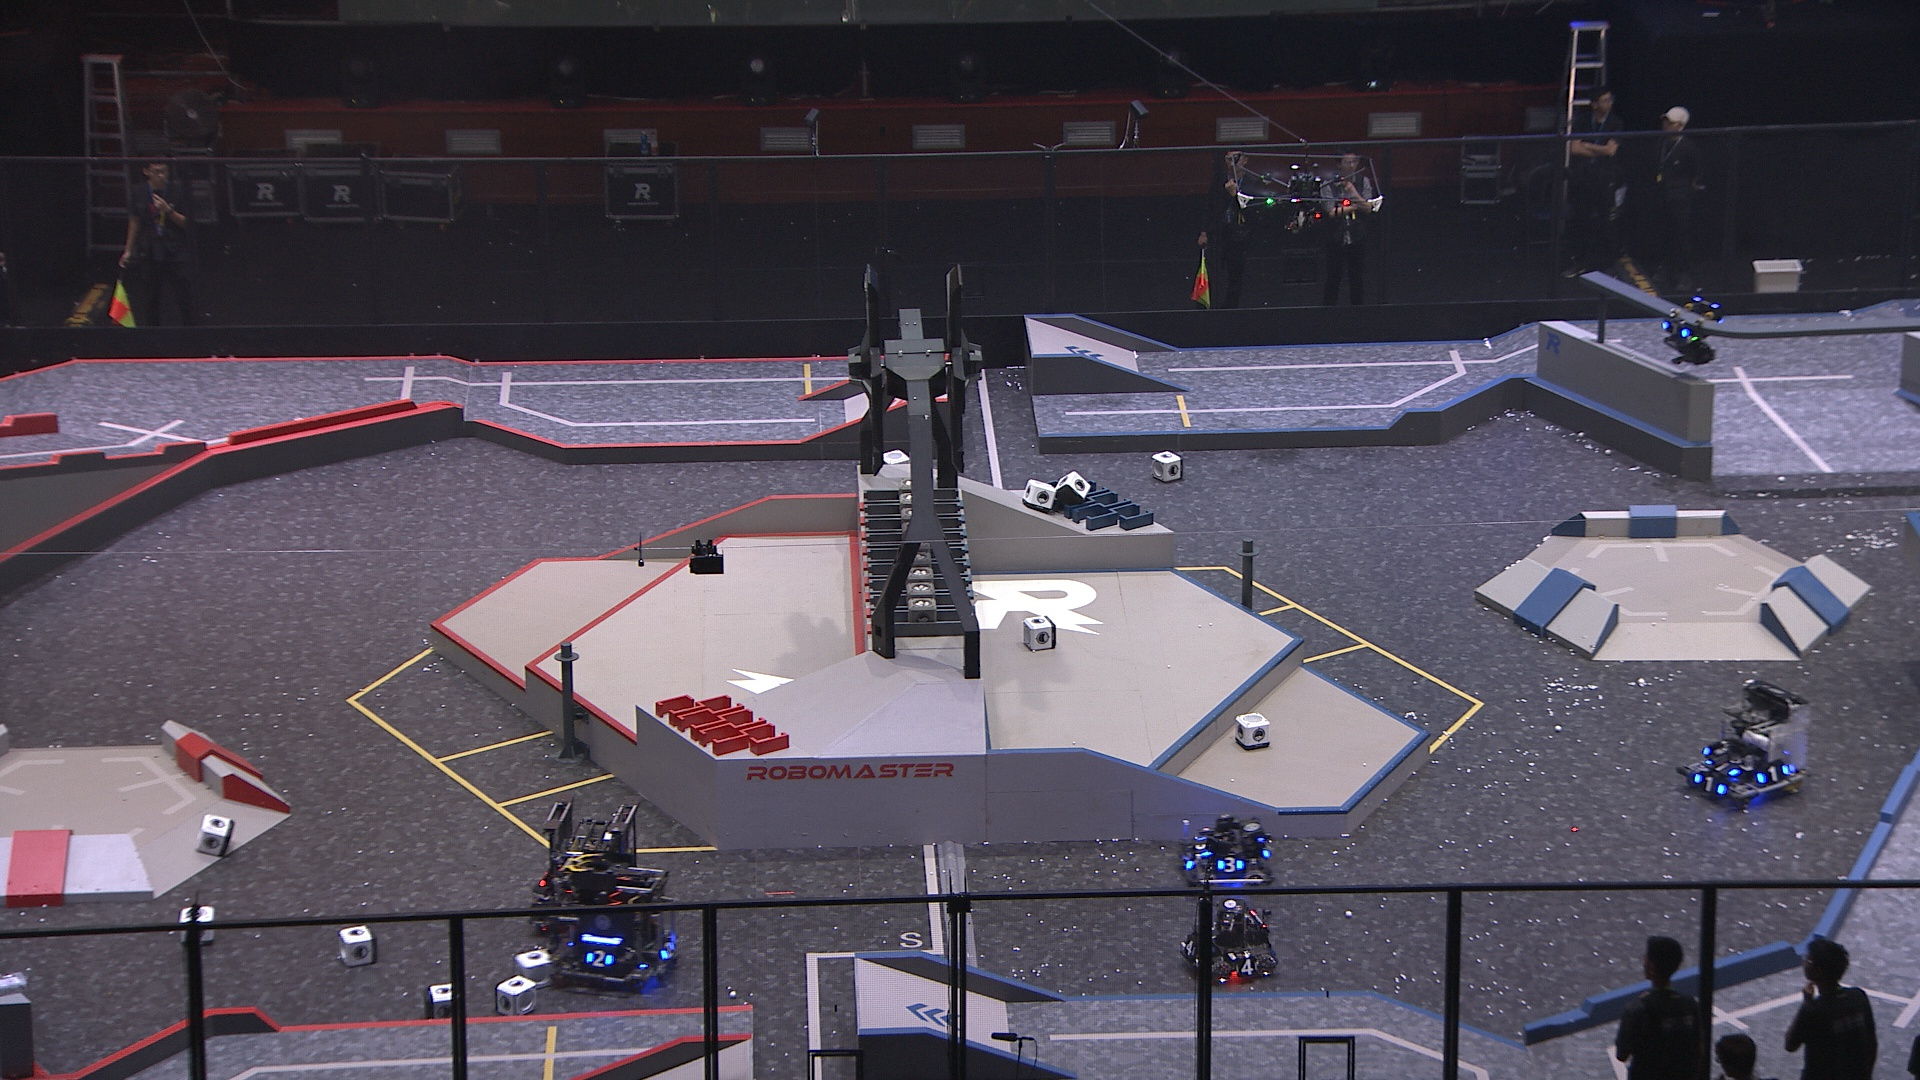armor: (1695, 771, 1730, 796), (1753, 764, 1792, 785), (1704, 756, 1741, 777), (585, 948, 615, 969), (1660, 318, 1689, 339), (1215, 856, 1247, 873), (1236, 957, 1262, 977), (1192, 833, 1212, 858), (659, 936, 676, 960), (1257, 835, 1269, 860), (1183, 939, 1197, 956)
car: (1673, 676, 1818, 807), (545, 856, 684, 988), (526, 793, 646, 938), (1179, 893, 1278, 986), (1176, 808, 1275, 887)
watcher: (1656, 285, 1730, 371)
